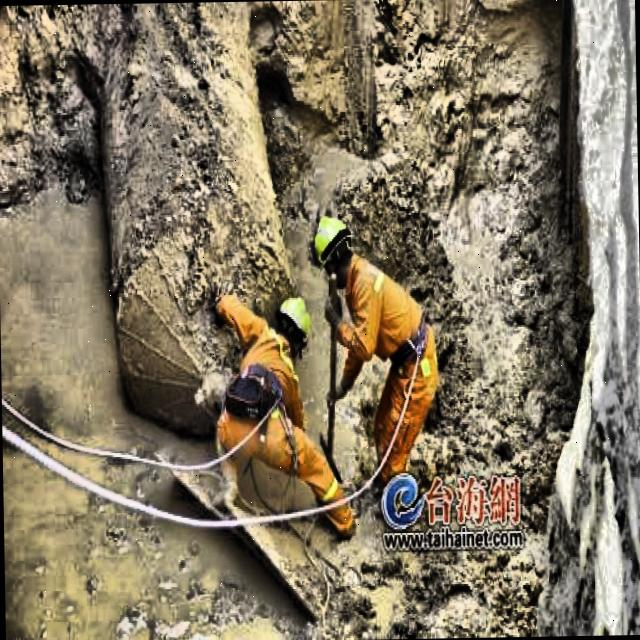helmet: (308, 212, 356, 286), (266, 292, 316, 358)
